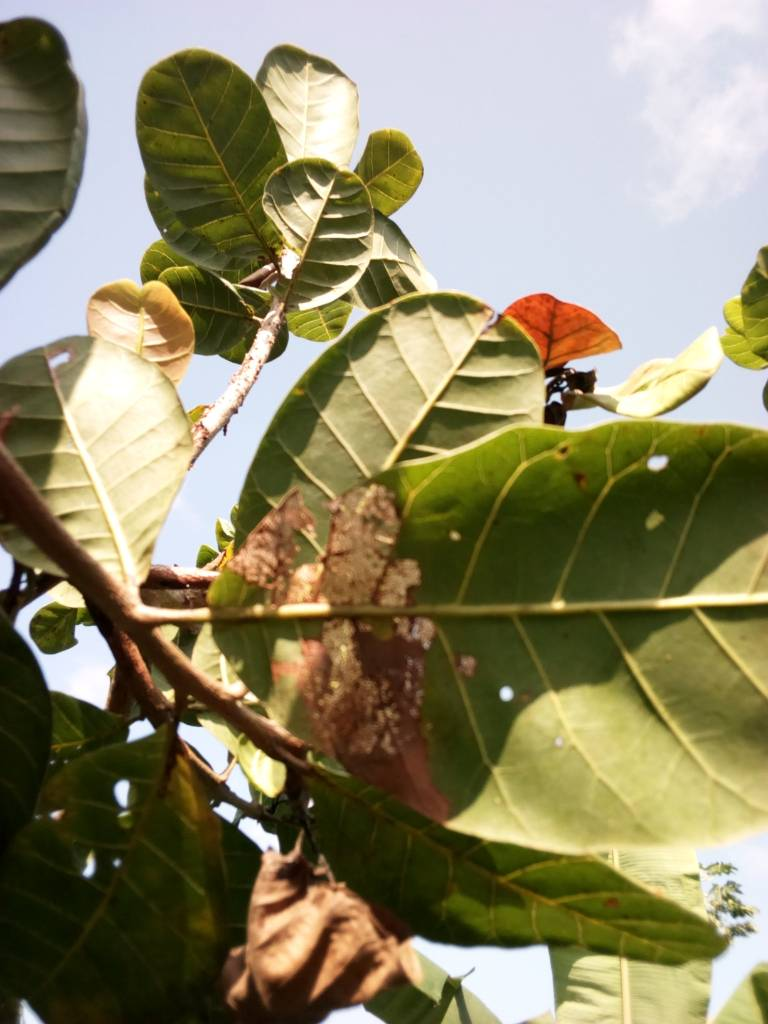Dysdercus wolkerii: (194, 413, 765, 836)
